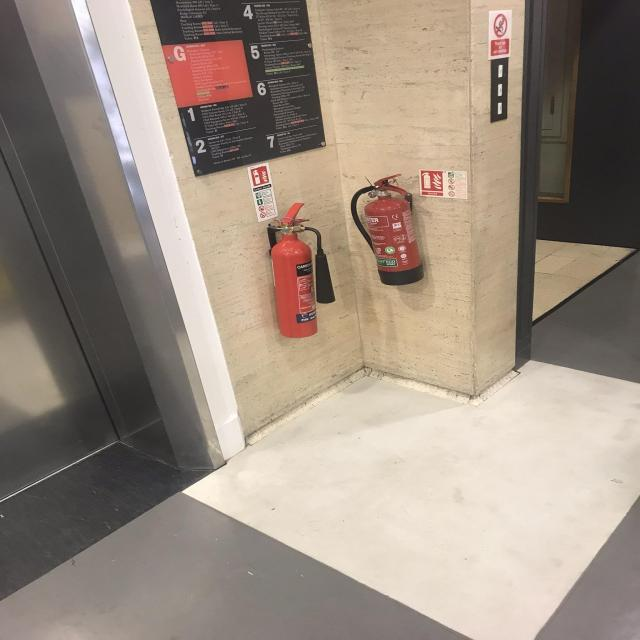fire_extinguisher: (263, 200, 337, 341), (346, 172, 429, 284)
